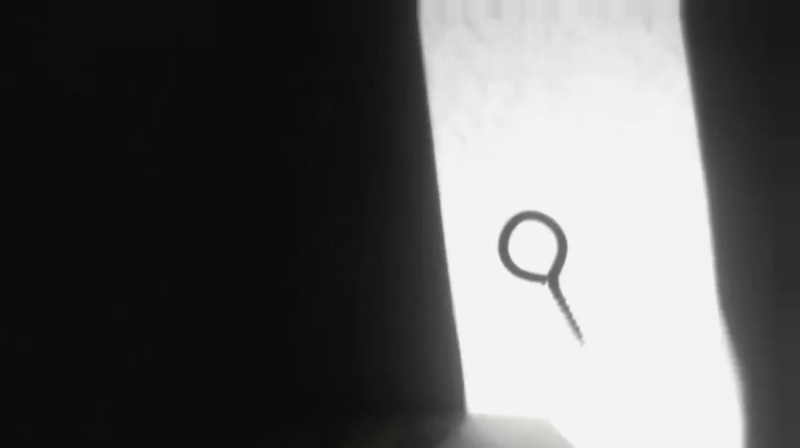O001: (494, 207, 591, 349)
